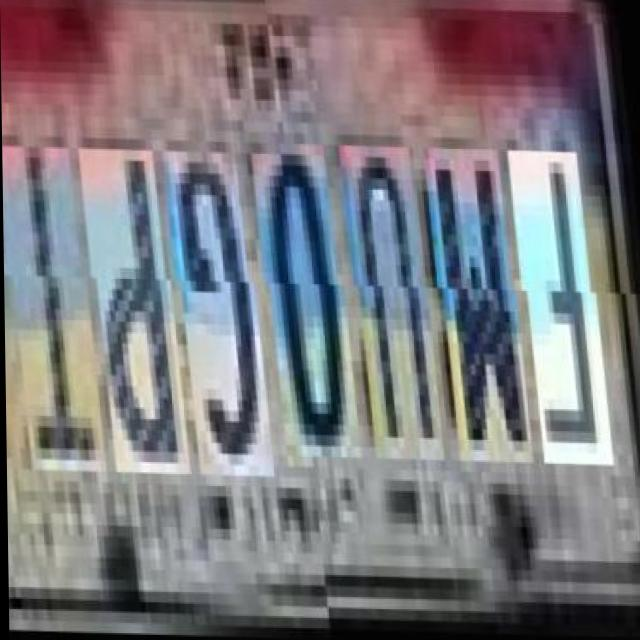f: (515, 150, 611, 466)
g: (169, 143, 271, 470)
m: (432, 149, 532, 464)
o: (258, 144, 358, 460)
p: (85, 140, 187, 467)
t: (2, 138, 103, 466)
u: (348, 147, 443, 462)
